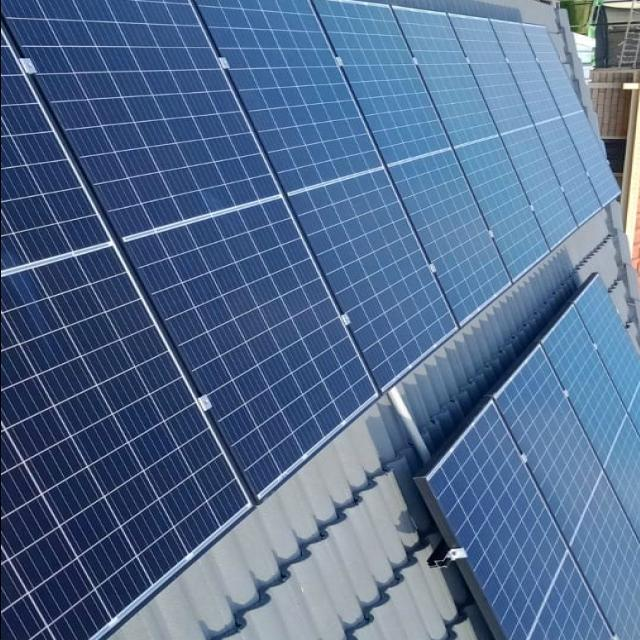no faulty: (5, 243, 250, 640), (125, 200, 378, 490), (2, 0, 282, 240), (428, 400, 572, 640), (203, 0, 383, 190), (300, 172, 460, 383), (0, 38, 107, 268), (325, 5, 457, 172), (398, 150, 510, 320), (502, 353, 600, 540), (543, 307, 627, 462), (568, 475, 640, 640), (465, 135, 548, 277), (407, 17, 490, 142), (573, 278, 640, 415), (530, 552, 613, 640), (462, 23, 533, 125), (510, 127, 573, 240), (538, 117, 600, 227), (568, 103, 623, 203), (530, 27, 588, 110), (505, 27, 558, 115), (602, 417, 638, 533)
